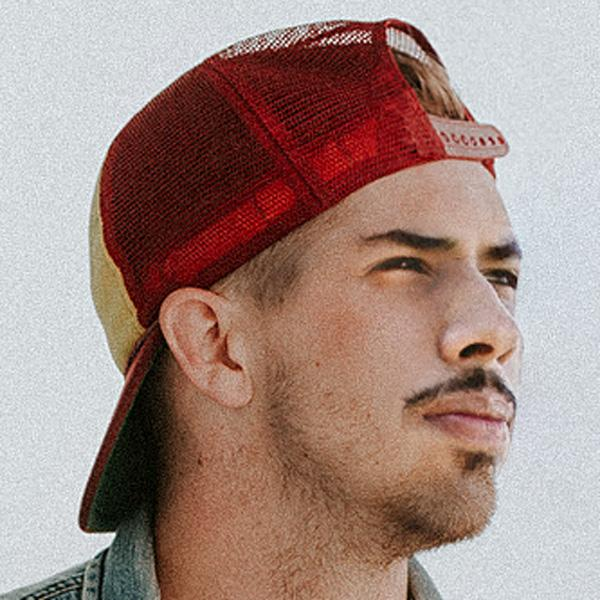Eyes: (359, 234, 445, 296), (476, 256, 526, 299)
